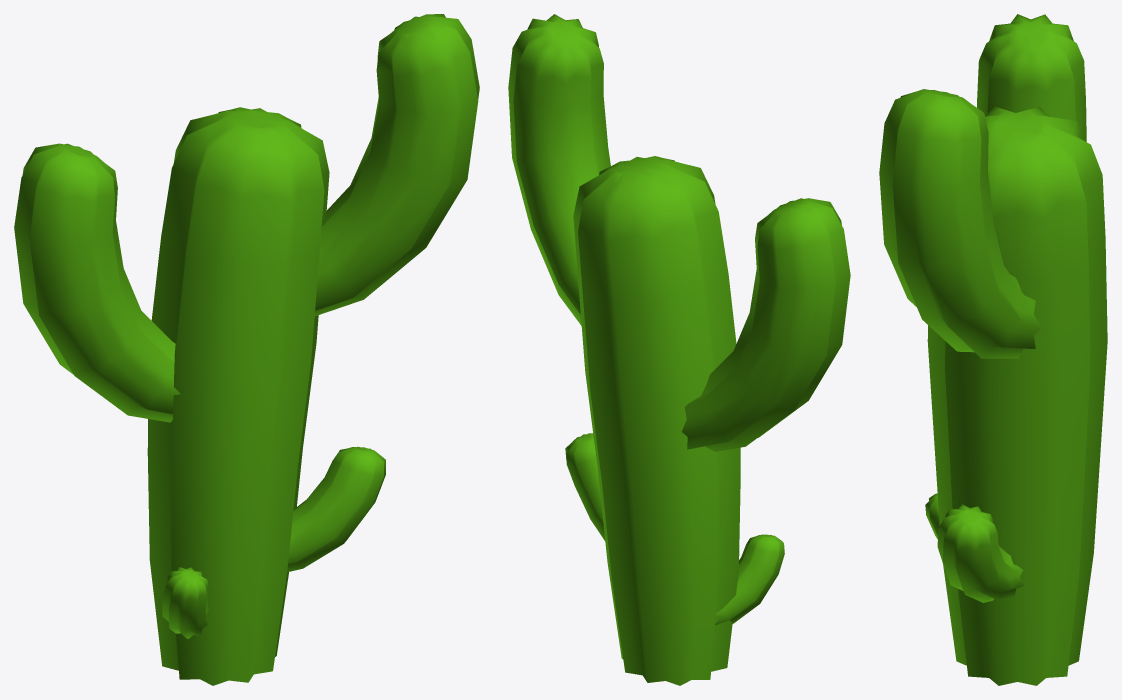
File: 仙人掌Low 1.FBX
The picture shows the model from 3 angles, left to right: view 1: azimuth 30°, elevation 25°; view 2: azimuth 150°, elevation 25°; view 3: azimuth 270°, elevation 25°; orthographic projection. The views are drawn at different scales.
Parts seen in each view (by area): view 1: Loft001; view 2: Loft001; view 3: Loft001.
Part boxes in pixels (x1,y1,x2,y2): Loft001: (14,14,479,685); Loft001: (508,14,850,685); Loft001: (879,14,1107,685).
Size of the model in its own units: 1.99 by 2.95 by 0.9339.
